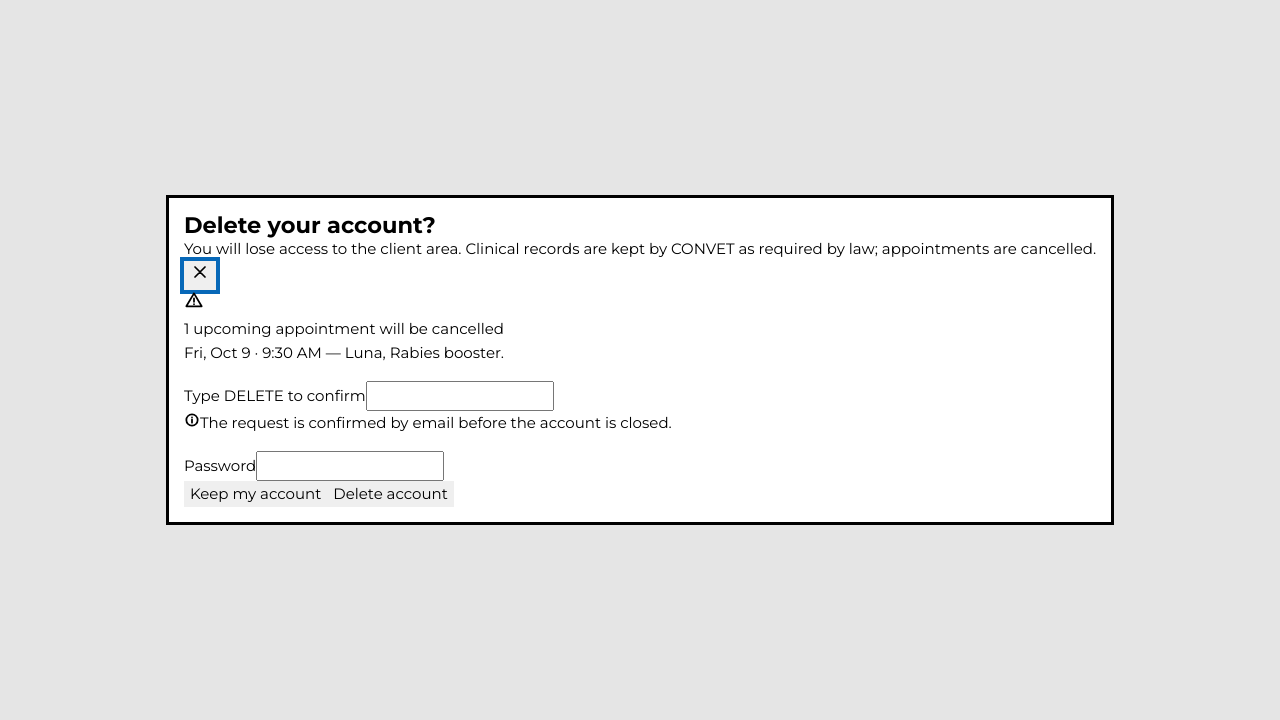
Scenario: DeleteAccountModal › sends the request once confirmed and closes
In the field labelled "Type DELETE to confirm": x=460, y=396 [366,381,554,411], type "DELETE"
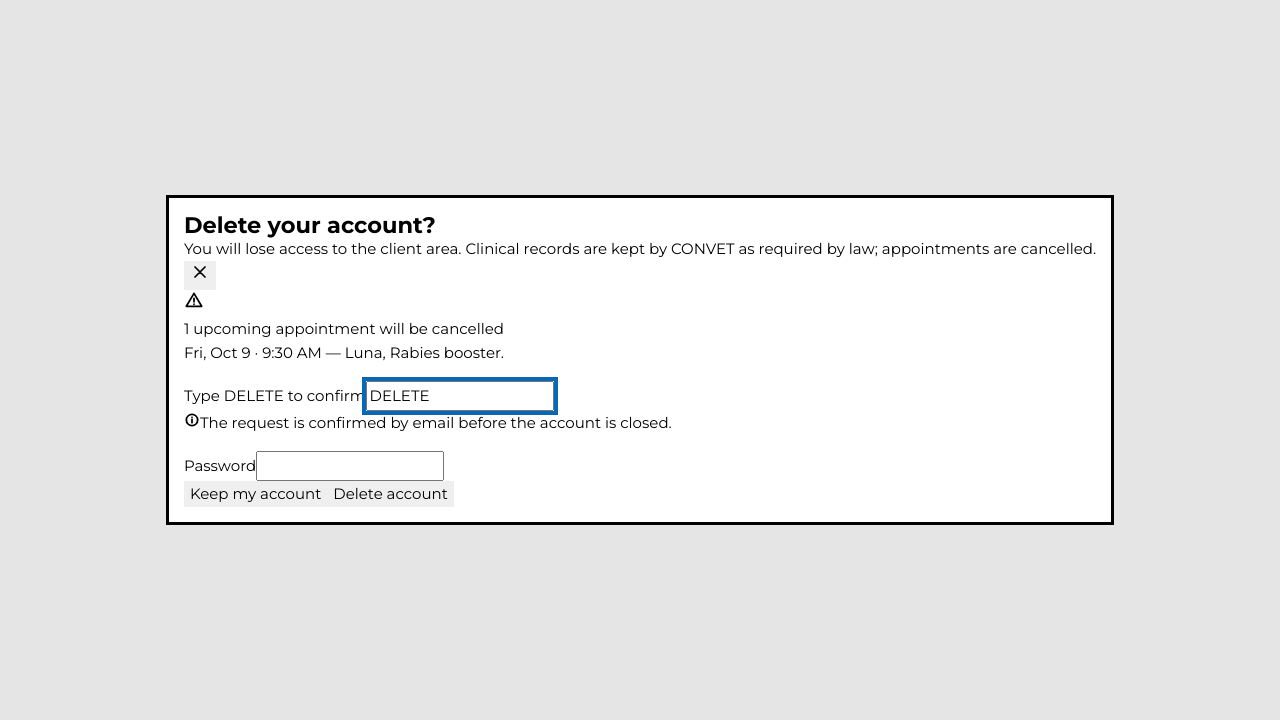
In the password field labelled "Password": x=350, y=466 [256,451,444,481], type "secret-password"
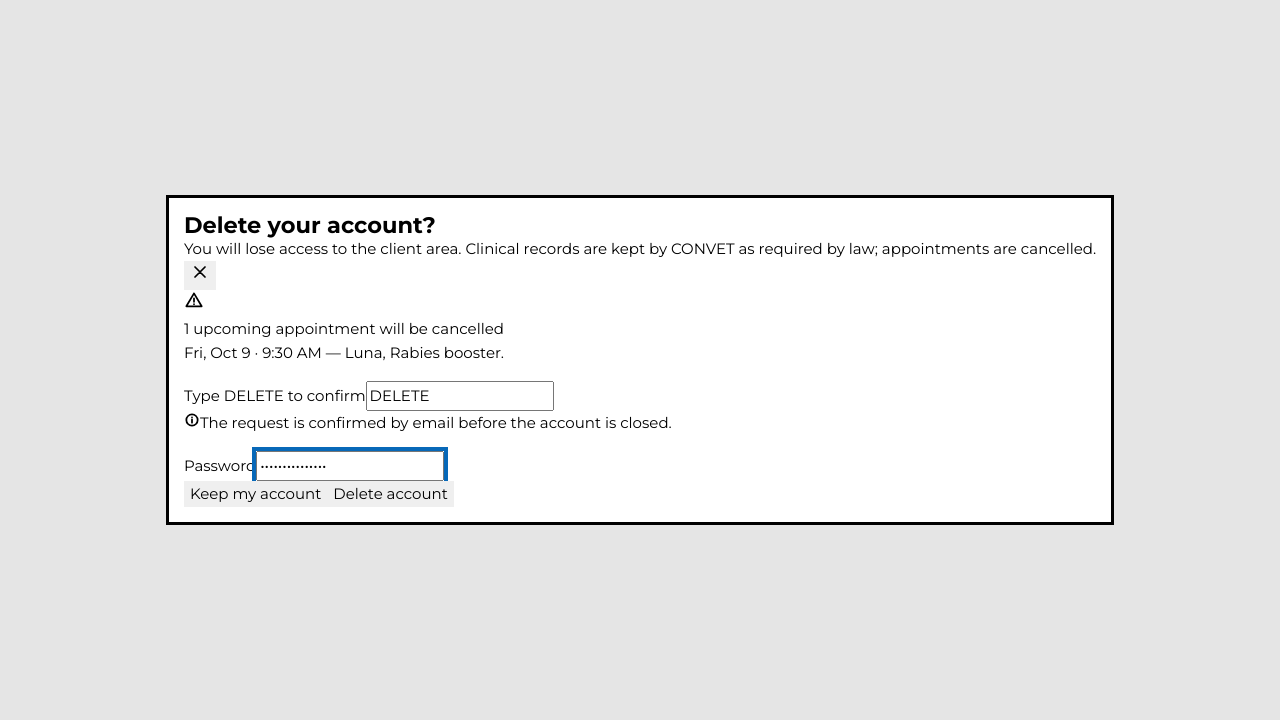
Click the button "Delete account": x=391, y=494 [327,481,454,507]
Wait 900 ms
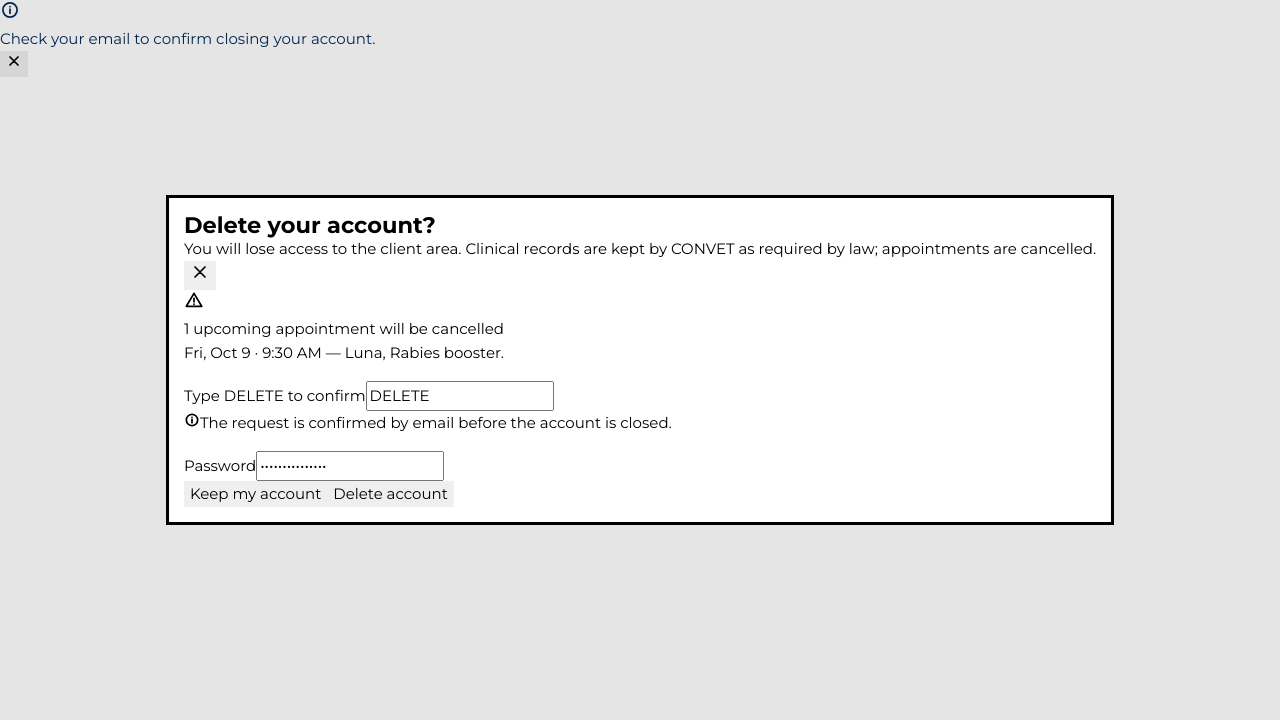
Result: the text "Check your email to confirm closing your account." is shown at [0,29,375,48]
